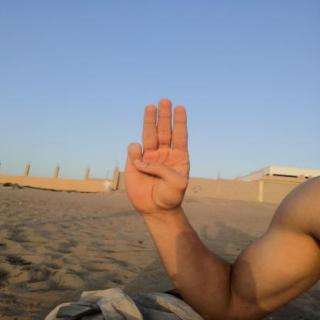THA: (114, 90, 202, 220)
